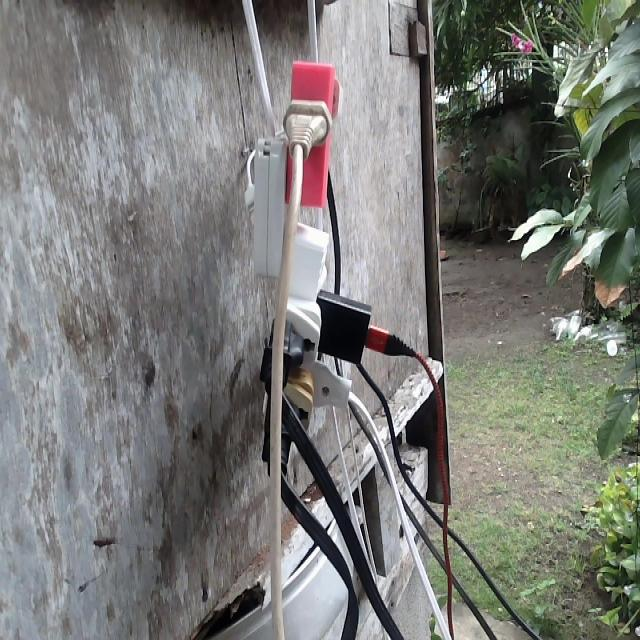-: (251, 59, 417, 477)
